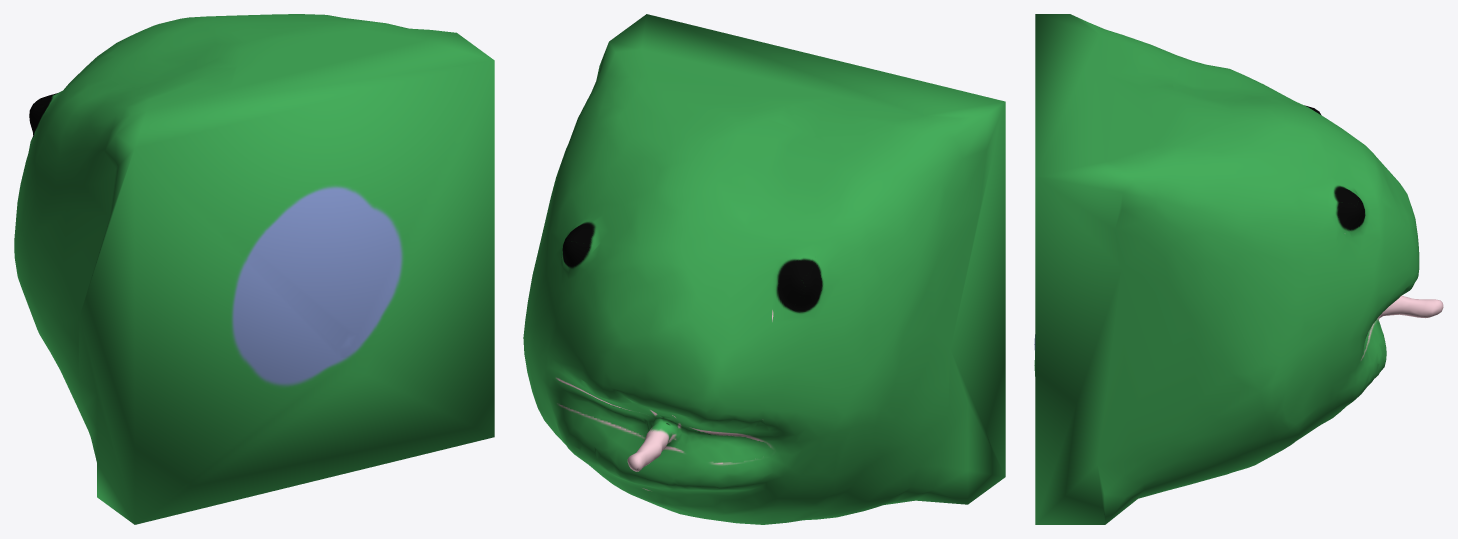
The model's file is snake.glb.
3 renders of one model, left to right at view 1: azimuth 30°, elevation 25°; view 2: azimuth 150°, elevation 25°; view 3: azimuth 270°, elevation 25°, orthographic. The views are drawn at different scales.
Parts seen in each view (by area): view 1: Cube; view 2: Cube; view 3: Cube.
Part boxes in pixels (left/top/right/bottom): Cube: left=14, top=14, right=494, bottom=524; Cube: left=523, top=14, right=1005, bottom=524; Cube: left=1034, top=14, right=1443, bottom=524.
Size of the model in its own units: 2 by 2 by 2.13.
Materials: 1 (1 with a texture image).
